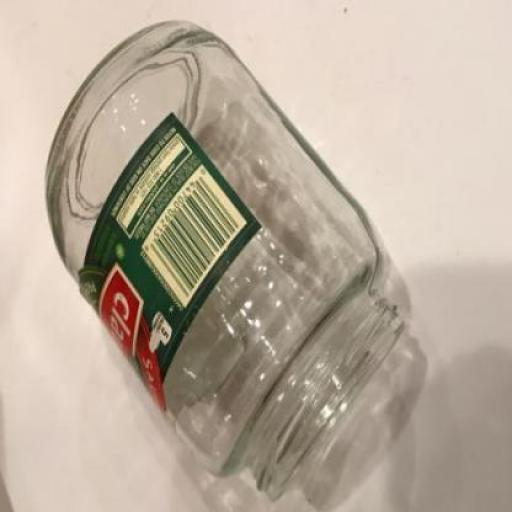glass: (44, 18, 402, 500)
